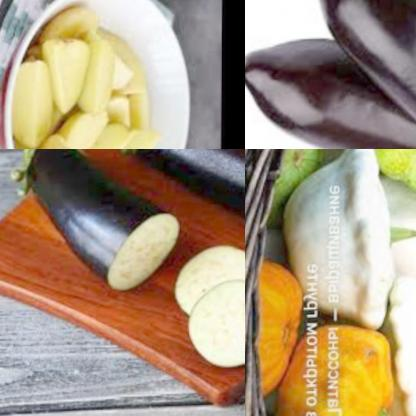eggplant: (19, 149, 192, 313), (294, 0, 416, 149), (245, 64, 416, 149), (163, 229, 245, 383), (132, 149, 245, 254)
potato: (6, 1, 175, 149)
squash-patisson: (289, 149, 416, 331), (268, 316, 407, 416), (245, 254, 304, 400), (380, 264, 416, 416), (338, 149, 416, 213), (260, 149, 331, 218)
